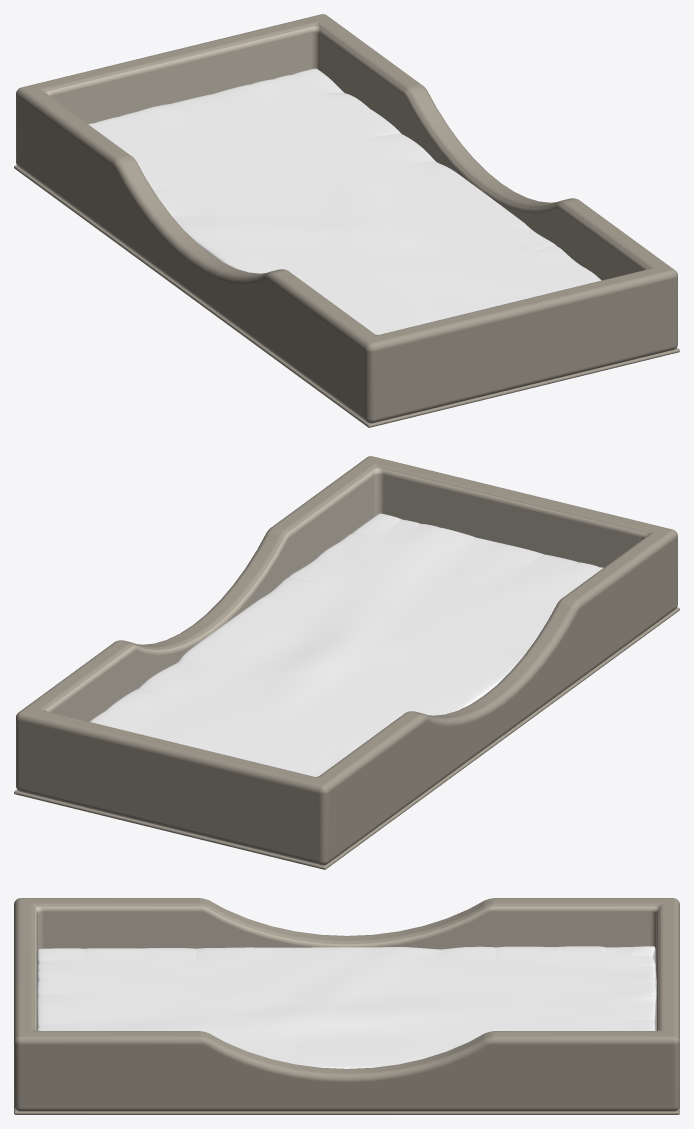
The picture shows the model from 3 angles, top to bottom: view 1: azimuth 30°, elevation 25°; view 2: azimuth 150°, elevation 25°; view 3: azimuth 270°, elevation 25°; orthographic projection. The views are drawn at different scales.
Visible parts, largest first — view 1: root; view 2: root; view 3: root.
Part boxes in pixels (x1,y1,x2,y2): root: [14, 14, 679, 427]; root: [14, 456, 679, 869]; root: [14, 898, 679, 1114].
Bounding box in the file's own units: 1.02 × 0.2555 × 2.01.
